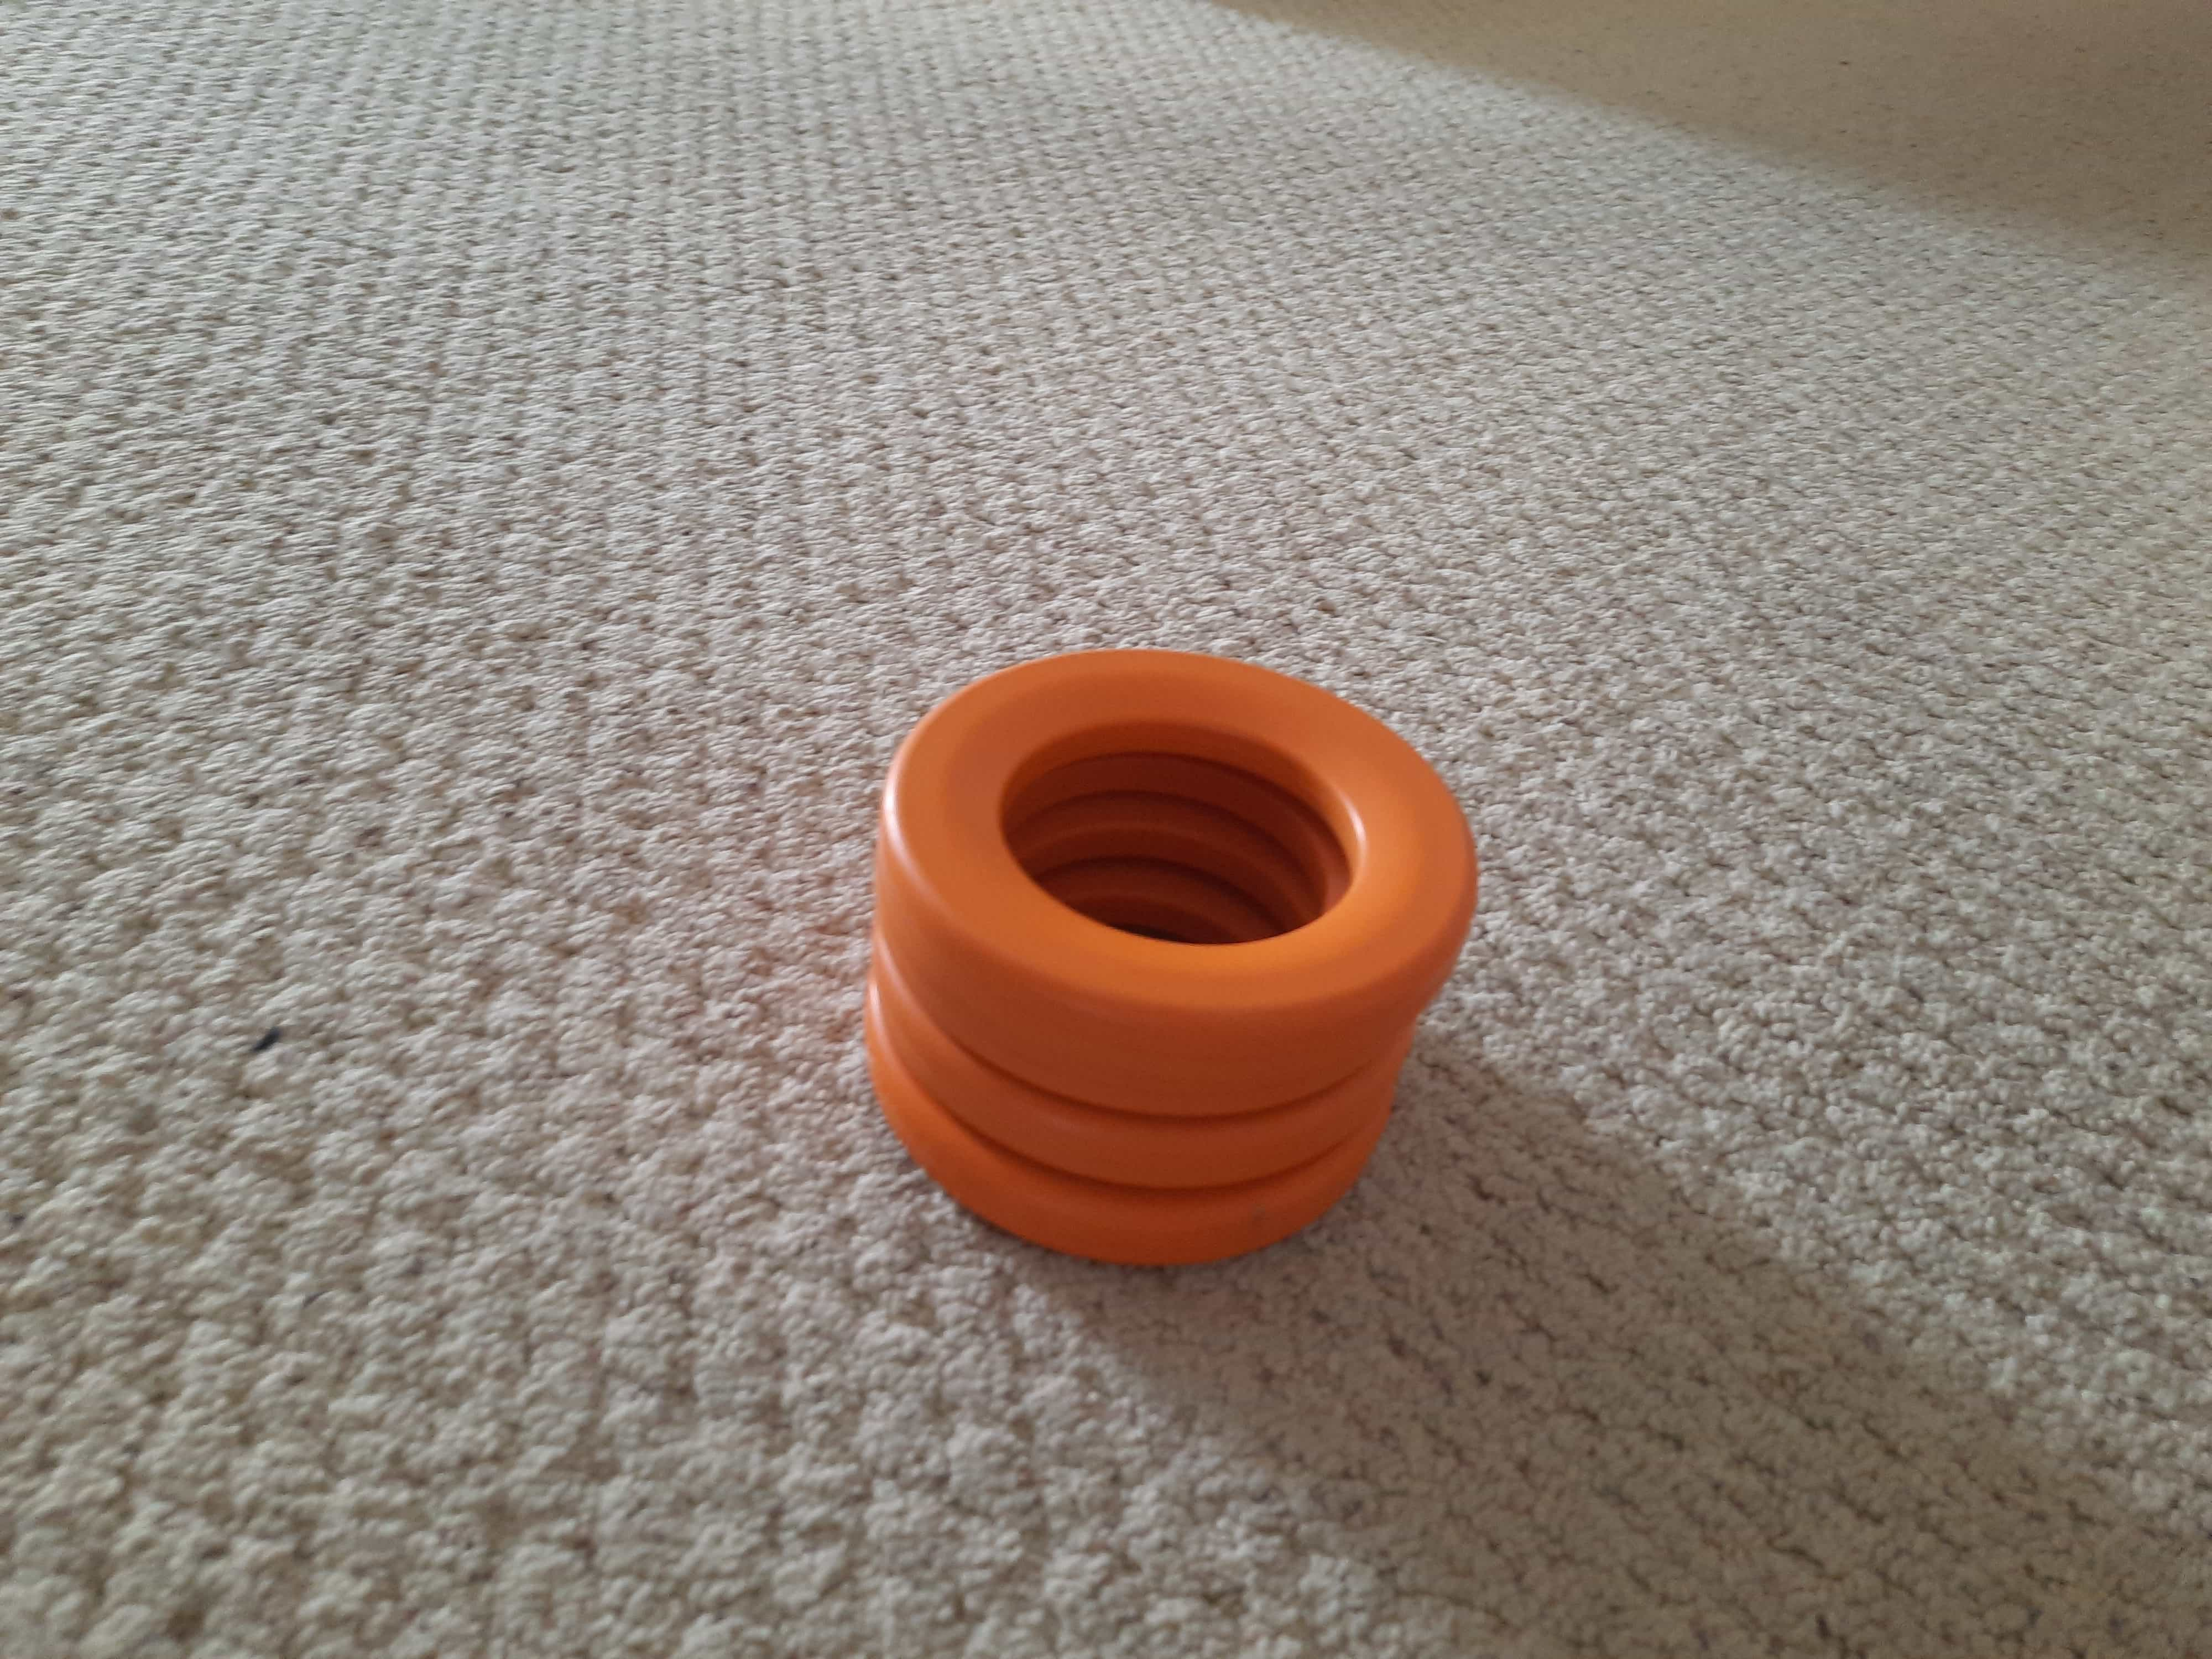FourStack: (857, 647, 1465, 1274)
